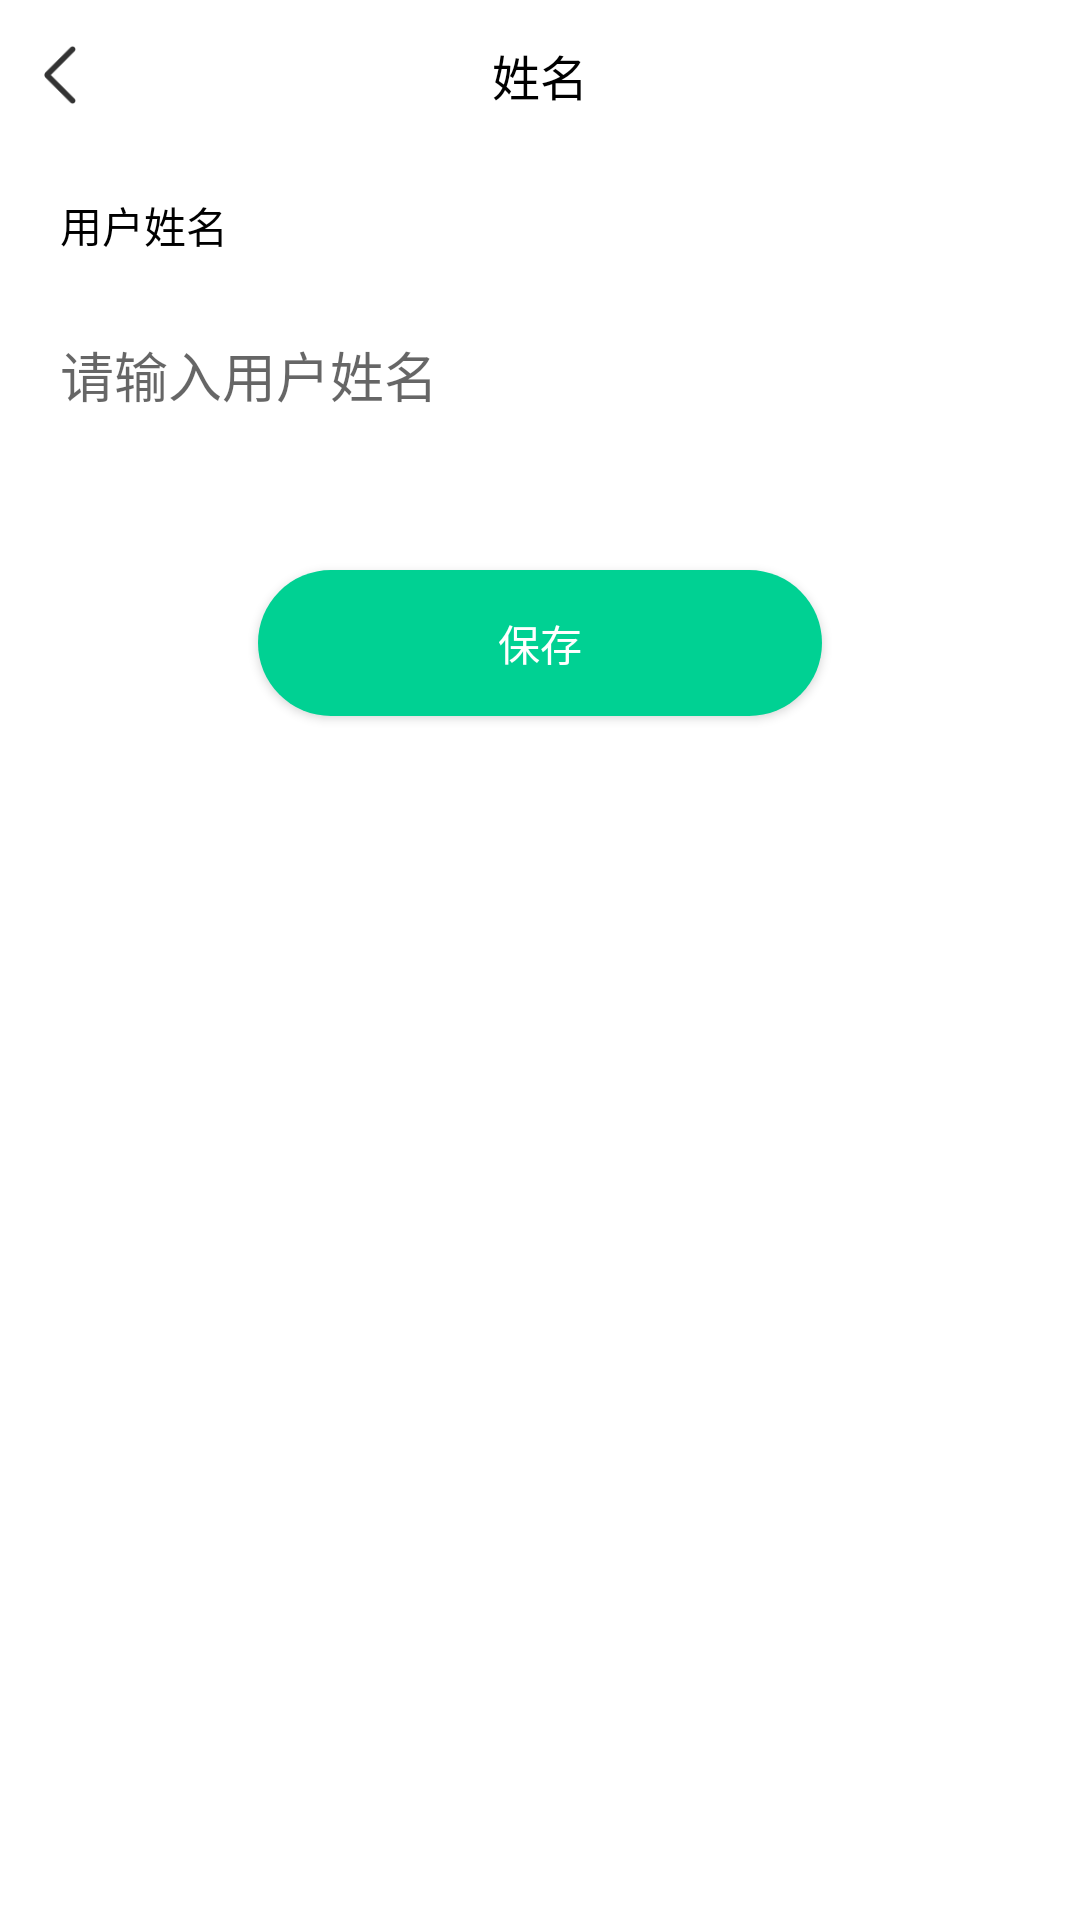

Icons on this 1080 x 1920 Android screen, each with the point to tap as point (x, y):
返回上一界面: point (60, 75)
